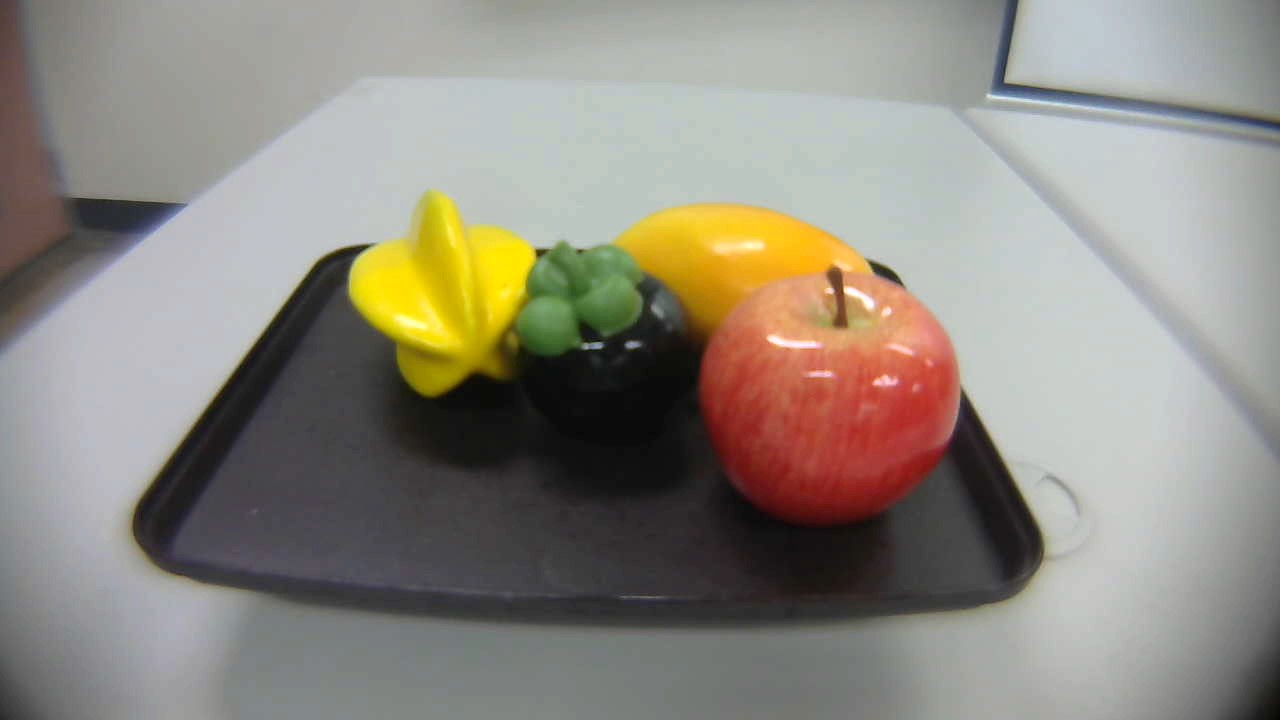mangosteen: (505, 241, 705, 446)
red apple: (692, 266, 967, 528)
star fruit: (330, 189, 565, 404)
yellow mango: (582, 201, 890, 353)
